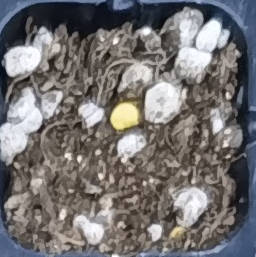pepper seed: (40, 36, 181, 167)
